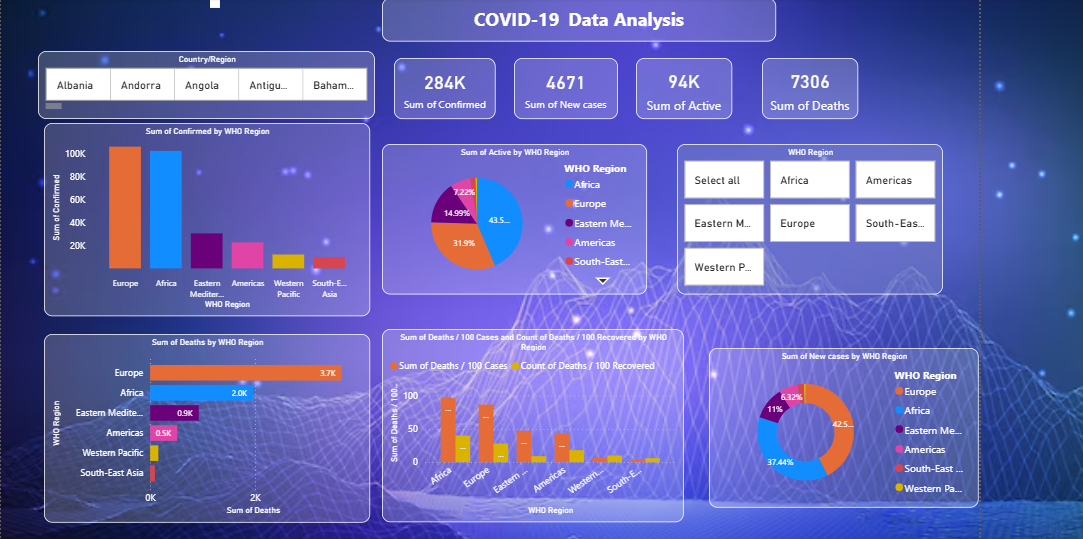

The dashboard page shown, as its layout file describes it:
{"tool":"powerbi","page":{"name":"Page 1","canvas":[1280,720],"ordinal":0},"visuals":[{"type":"textbox","box":[498.6,0,515.7,57.1],"z":0},{"type":"qnaVisual","box":[273.8,0,12.5,12.5],"z":1000},{"type":"columnChart","fields":{"Category":["COVID 19  sorted data.WHO Region"],"Y":["Sum(COVID 19  sorted data.Confirmed)"]},"box":[56.7,163.3,426.7,253.3],"z":2000},{"type":"pieChart","fields":{"Category":["COVID 19  sorted data.WHO Region"],"Y":["Sum(COVID 19  sorted data.Active)"]},"box":[498.3,191.7,346.7,196.7],"z":3000},{"type":"clusteredBarChart","fields":{"Category":["COVID 19  sorted data.WHO Region"],"Y":["Sum(COVID 19  sorted data.Deaths)"]},"box":[56.7,440,426.7,246.7],"z":4000},{"type":"clusteredColumnChart","fields":{"Category":["COVID 19  sorted data.WHO Region"],"Y":["Sum(COVID 19  sorted data.Deaths / 100 Cases)","CountNonNull(COVID 19  sorted data.Deaths / 100 Recovered)"]},"box":[498.3,433.3,395,253.3],"z":5000},{"type":"card","fields":{"Values":["Sum(COVID 19  sorted data.Active)"]},"box":[831.4,78.6,125.7,80],"z":6000},{"type":"card","fields":{"Values":["Sum(COVID 19  sorted data.Confirmed)"]},"box":[515,78.3,133.3,80],"z":7000},{"type":"card","fields":{"Values":["Sum(COVID 19  sorted data.Deaths)"]},"box":[995.7,78.6,125.7,80],"z":8000},{"type":"card","fields":{"Values":["Sum(COVID 19  sorted data.New cases)"]},"box":[671.4,78.6,135.7,80],"z":9000},{"type":"advancedSlicerVisual","fields":{"Values":["COVID 19  sorted data.WHO Region"]},"box":[885,191.7,348.3,196.7],"z":10000},{"type":"advancedSlicerVisual","fields":{"Values":["COVID 19  sorted data.Country/Region"]},"box":[48.6,70,441.4,88.6],"z":11000},{"type":"donutChart","fields":{"Category":["COVID 19  sorted data.WHO Region"],"Y":["Sum(COVID 19  sorted data.New cases)"]},"box":[927.1,458.6,352.9,208.6],"z":12000}]}

Visuals, with their boxes in screenshot pixels (x1, y1, x2, y2):
textbox: 379/0/773/38
qnaVisual: 207/0/216/4
columnChart - COVID 19  sorted data.WHO Region x Sum(COVID 19  sorted data.Confirmed): 41/119/367/313
pieChart - COVID 19  sorted data.WHO Region x Sum(COVID 19  sorted data.Active): 378/141/644/291
clusteredBarChart - COVID 19  sorted data.WHO Region x Sum(COVID 19  sorted data.Deaths): 41/331/367/520
clusteredColumnChart - COVID 19  sorted data.WHO Region x Sum(COVID 19  sorted data.Deaths / 100 Cases): 378/326/681/520
card - Sum(COVID 19  sorted data.Active): 633/54/729/116
card - Sum(COVID 19  sorted data.Confirmed): 391/54/493/115
card - Sum(COVID 19  sorted data.Deaths): 759/54/855/116
card - Sum(COVID 19  sorted data.New cases): 511/54/615/116
advancedSlicerVisual - COVID 19  sorted data.WHO Region: 674/141/941/291
advancedSlicerVisual - COVID 19  sorted data.Country/Region: 34/48/372/116
donutChart - COVID 19  sorted data.WHO Region x Sum(COVID 19  sorted data.New cases): 706/345/976/505
